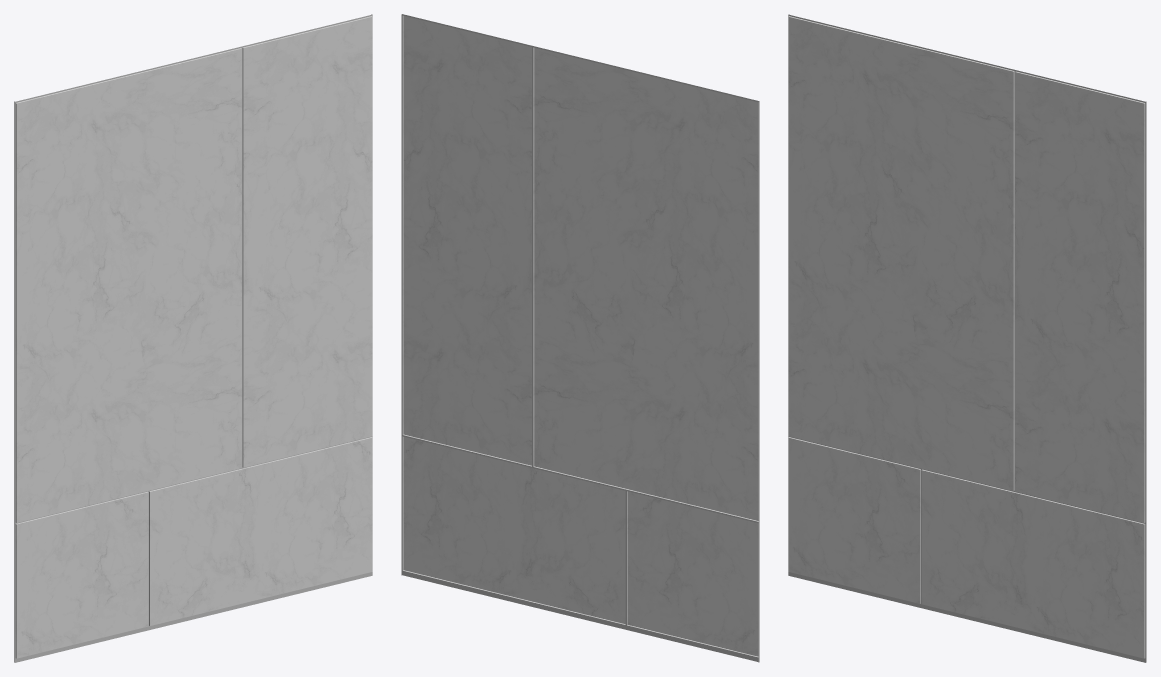
The picture shows the model from 3 angles, left to right: view 1: azimuth 30°, elevation 25°; view 2: azimuth 150°, elevation 25°; view 3: azimuth 330°, elevation 25°; orthographic projection.
Visible parts, largest first — view 1: M_W_005_b_8x12; view 2: M_W_005_b_8x12; view 3: M_W_005_b_8x12.
Part boxes in pixels (x1,y1,x2,y2): M_W_005_b_8x12: (14,14,372,662); M_W_005_b_8x12: (401,14,759,662); M_W_005_b_8x12: (788,14,1146,662).
Size of the model in its own units: 8 by 0.06 by 12.
